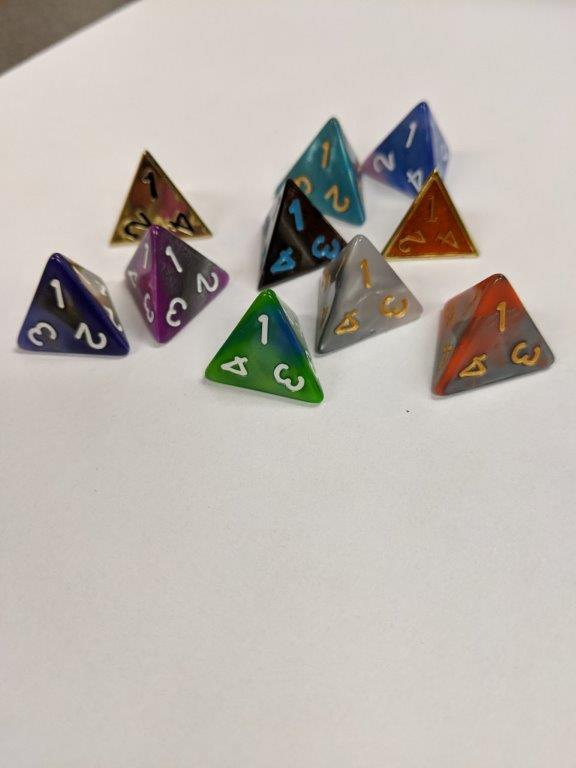d4-1: (429, 270, 557, 400), (202, 286, 324, 411), (125, 230, 231, 348), (316, 236, 420, 355), (15, 249, 128, 358), (276, 114, 366, 228), (106, 149, 215, 239), (383, 172, 478, 267), (361, 99, 452, 194), (258, 190, 347, 281)
